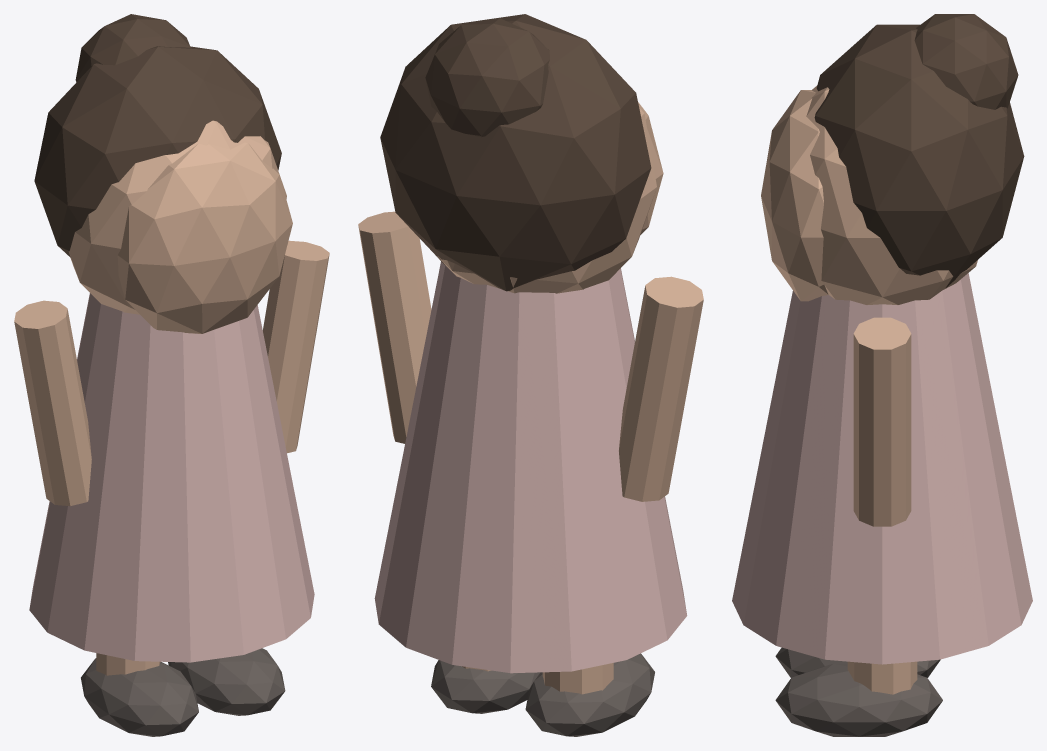
File: avatar.glb
The picture shows the model from 3 angles, left to right: view 1: azimuth 30°, elevation 25°; view 2: azimuth 150°, elevation 25°; view 3: azimuth 270°, elevation 25°; orthographic projection. The views are drawn at different scales.
Visible parts, largest first — view 1: Dress_Body, Face, Hair_Back, Arm_L, Arm_R, Head, Shoe_L, Shoe_R, Hair_Bun, Leg_L; view 2: Dress_Body, Hair_Back, Arm_L, Hair_Bun, Arm_R, Shoe_L, Head, Shoe_R, Leg_L, Face; view 3: Dress_Body, Hair_Back, Arm_R, Head, Face, Shoe_R, Hair_Bun, Leg_R, Shoe_L.
Part boxes in pixels (bbox=[...]): Dress_Body: bbox=[29, 293, 314, 662]; Face: bbox=[117, 142, 292, 333]; Hair_Back: bbox=[34, 46, 281, 257]; Arm_L: bbox=[14, 300, 91, 506]; Arm_R: bbox=[262, 240, 329, 453]; Head: bbox=[68, 120, 286, 314]; Shoe_L: bbox=[81, 658, 198, 736]; Shoe_R: bbox=[168, 648, 285, 715]; Hair_Bun: bbox=[75, 14, 190, 81]; Leg_L: bbox=[96, 653, 160, 675]; Dress_Body: bbox=[374, 261, 687, 673]; Hair_Back: bbox=[380, 14, 651, 291]; Arm_L: bbox=[619, 276, 703, 501]; Hair_Bun: bbox=[425, 18, 549, 136]; Arm_R: bbox=[358, 211, 431, 443]; Shoe_L: bbox=[525, 653, 654, 736]; Head: bbox=[437, 108, 656, 293]; Shoe_R: bbox=[431, 660, 540, 713]; Leg_L: bbox=[542, 663, 613, 694]; Face: bbox=[638, 102, 663, 234]; Dress_Body: bbox=[732, 273, 1032, 664]; Hair_Back: bbox=[814, 24, 1024, 287]; Arm_R: bbox=[853, 317, 911, 526]; Head: bbox=[806, 85, 977, 304]; Face: bbox=[761, 90, 828, 301]; Shoe_R: bbox=[775, 663, 942, 736]; Hair_Bun: bbox=[914, 14, 1018, 109]; Leg_R: bbox=[847, 661, 917, 694]; Shoe_L: bbox=[775, 647, 940, 677].
Bounding box in the file's own units: 1.28 × 2.64 × 1.04.
